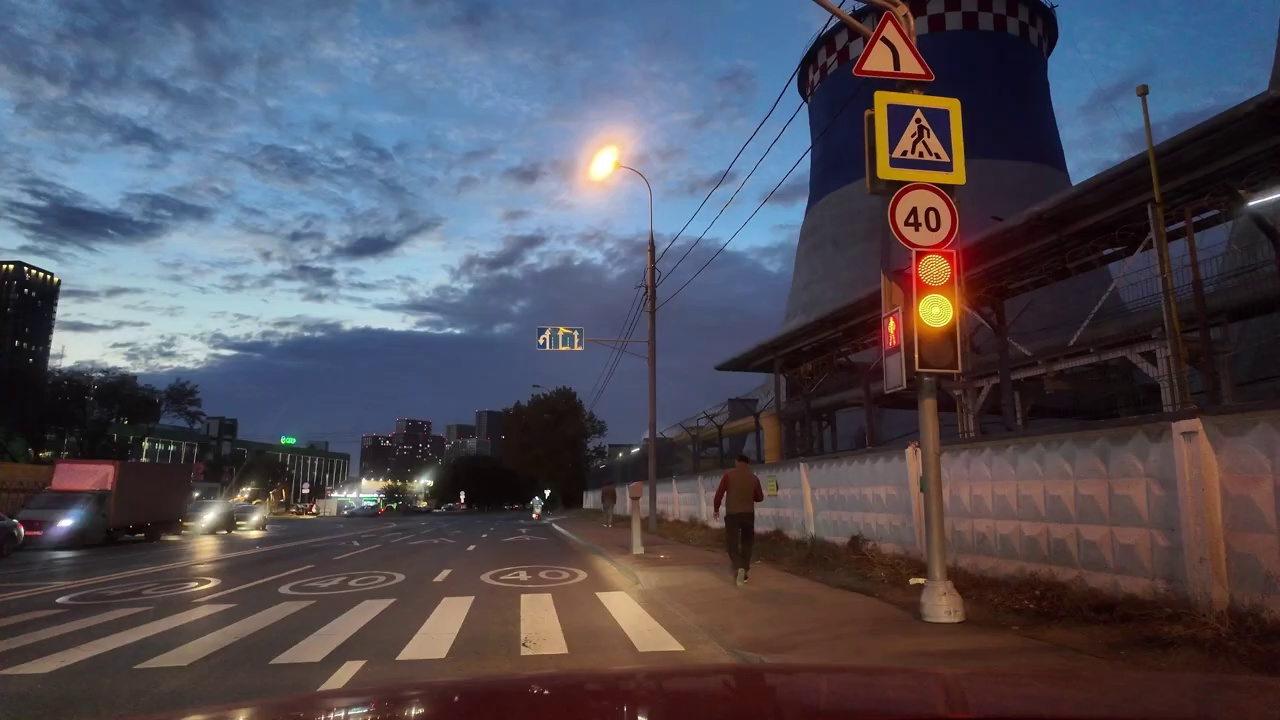acesa: (587, 128, 639, 182), (580, 140, 631, 186)
